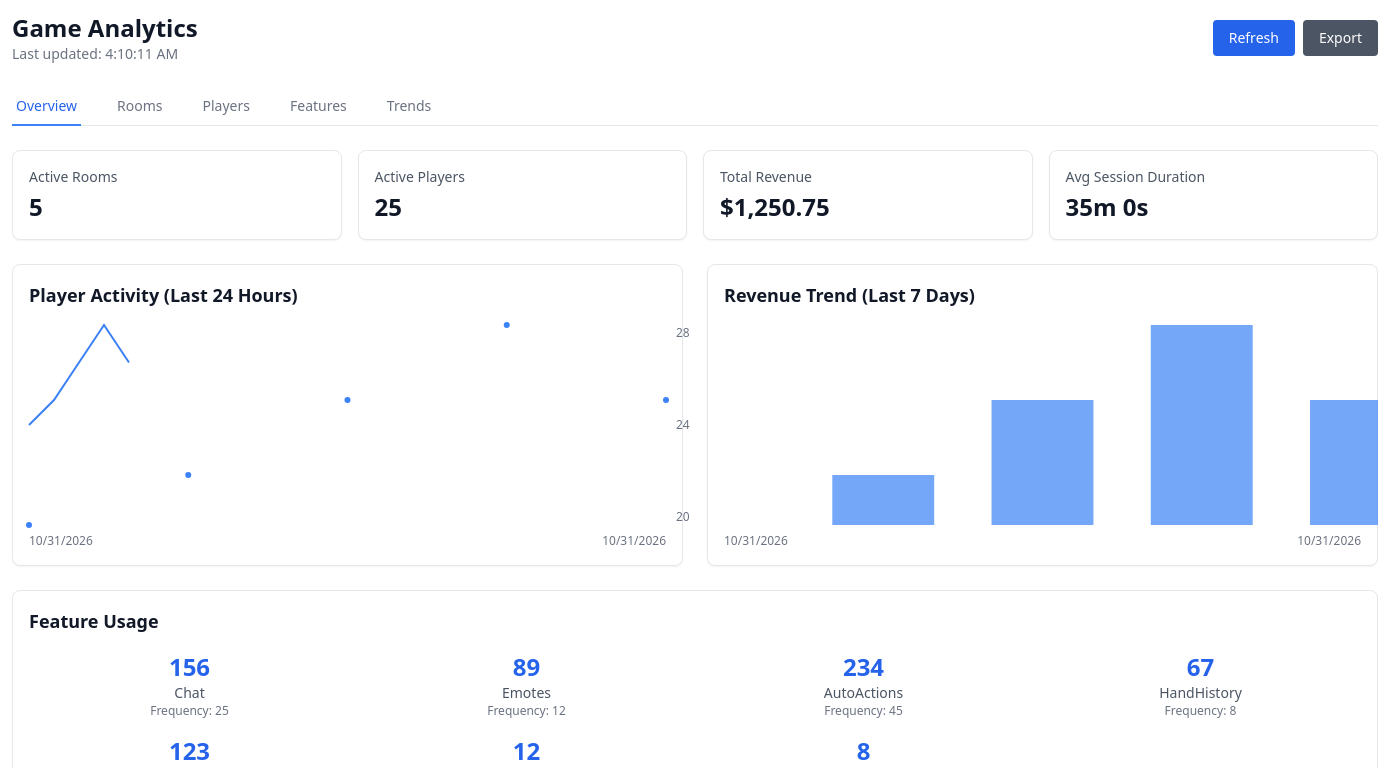
Test case: GameAnalyticsDashboard › Export Functionality › should show export dialog when export button is clicked
Click the button "Export" at {"x": 1340, "y": 38}, box [1303,20,1378,56]
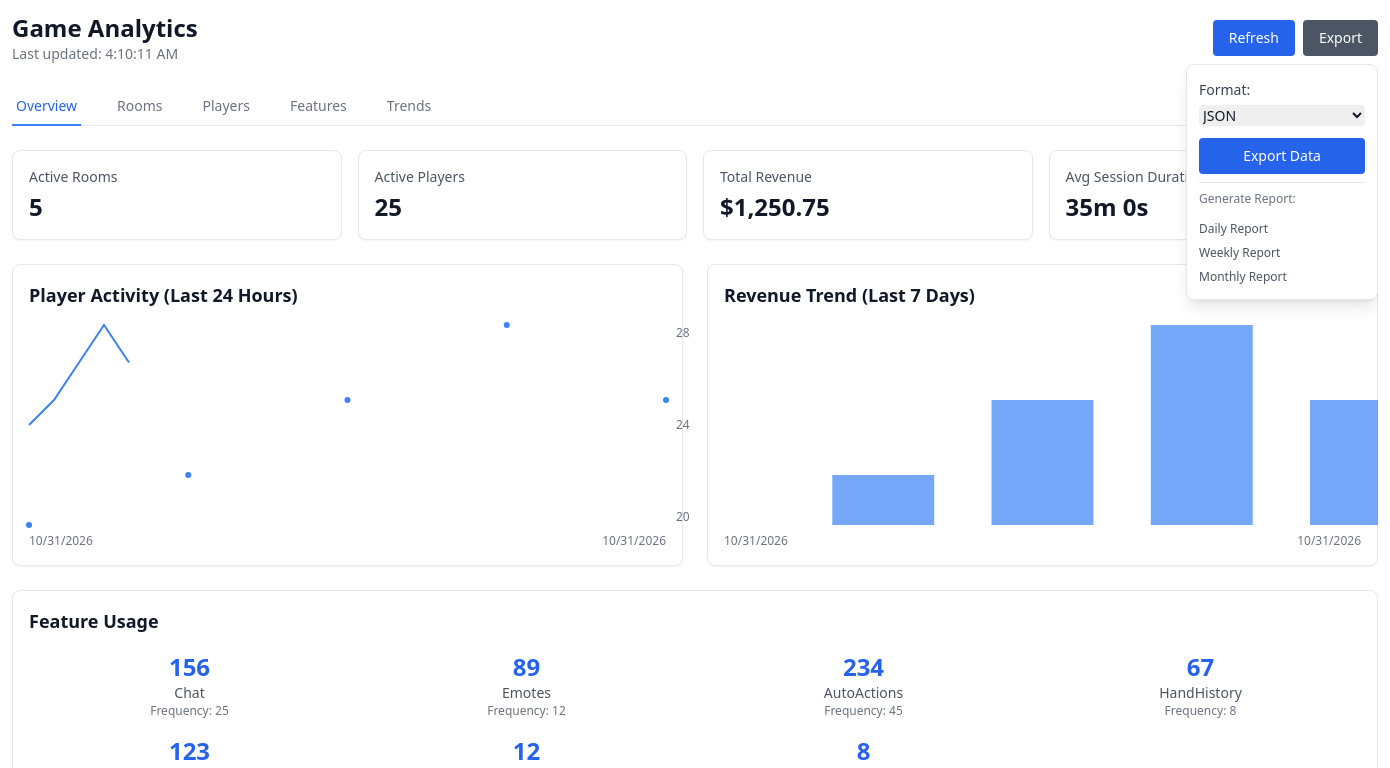
Expected: the text "Format:" is shown, [1199,80,1250,99]
Expected: the button "Export Data" is shown, [1199,138,1365,174]
Expected: the text "Generate Report:" is shown, [1199,190,1296,207]
